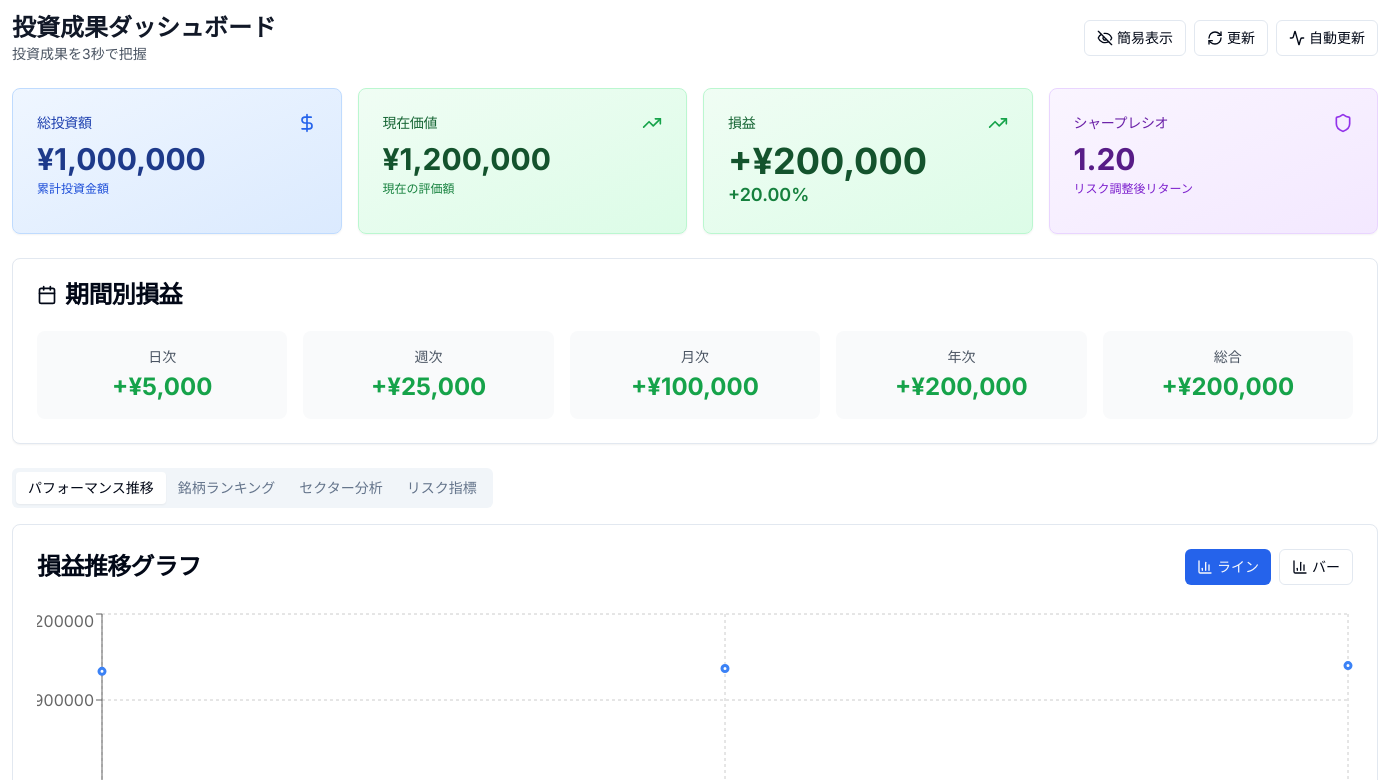
it: EnhancedProfitLossDisplay › 詳細表示の切り替えが正しく動作する
Click the button "簡易表示".
click(1135, 38)  # box [1084,20,1186,56]
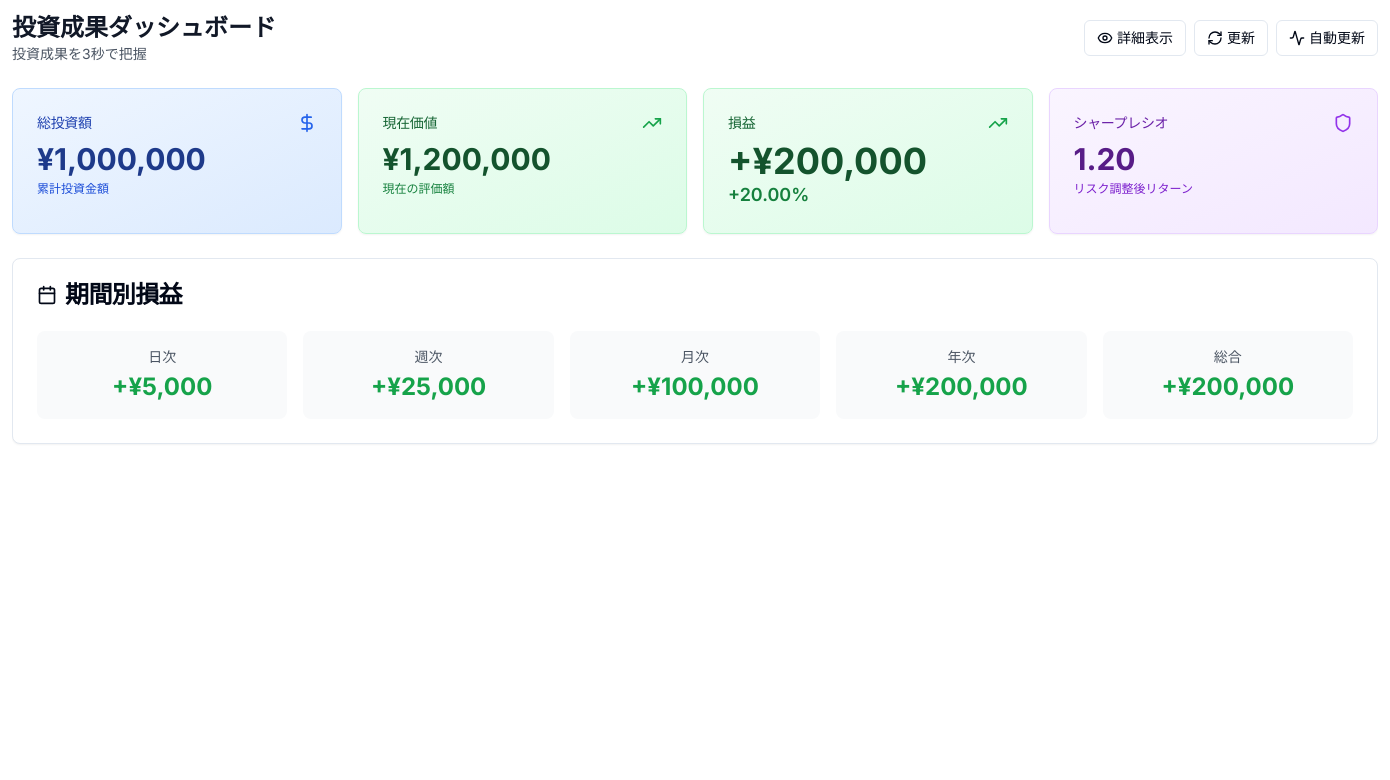
expect the button "詳細表示" is shown: met, box [1084,20,1186,56]
